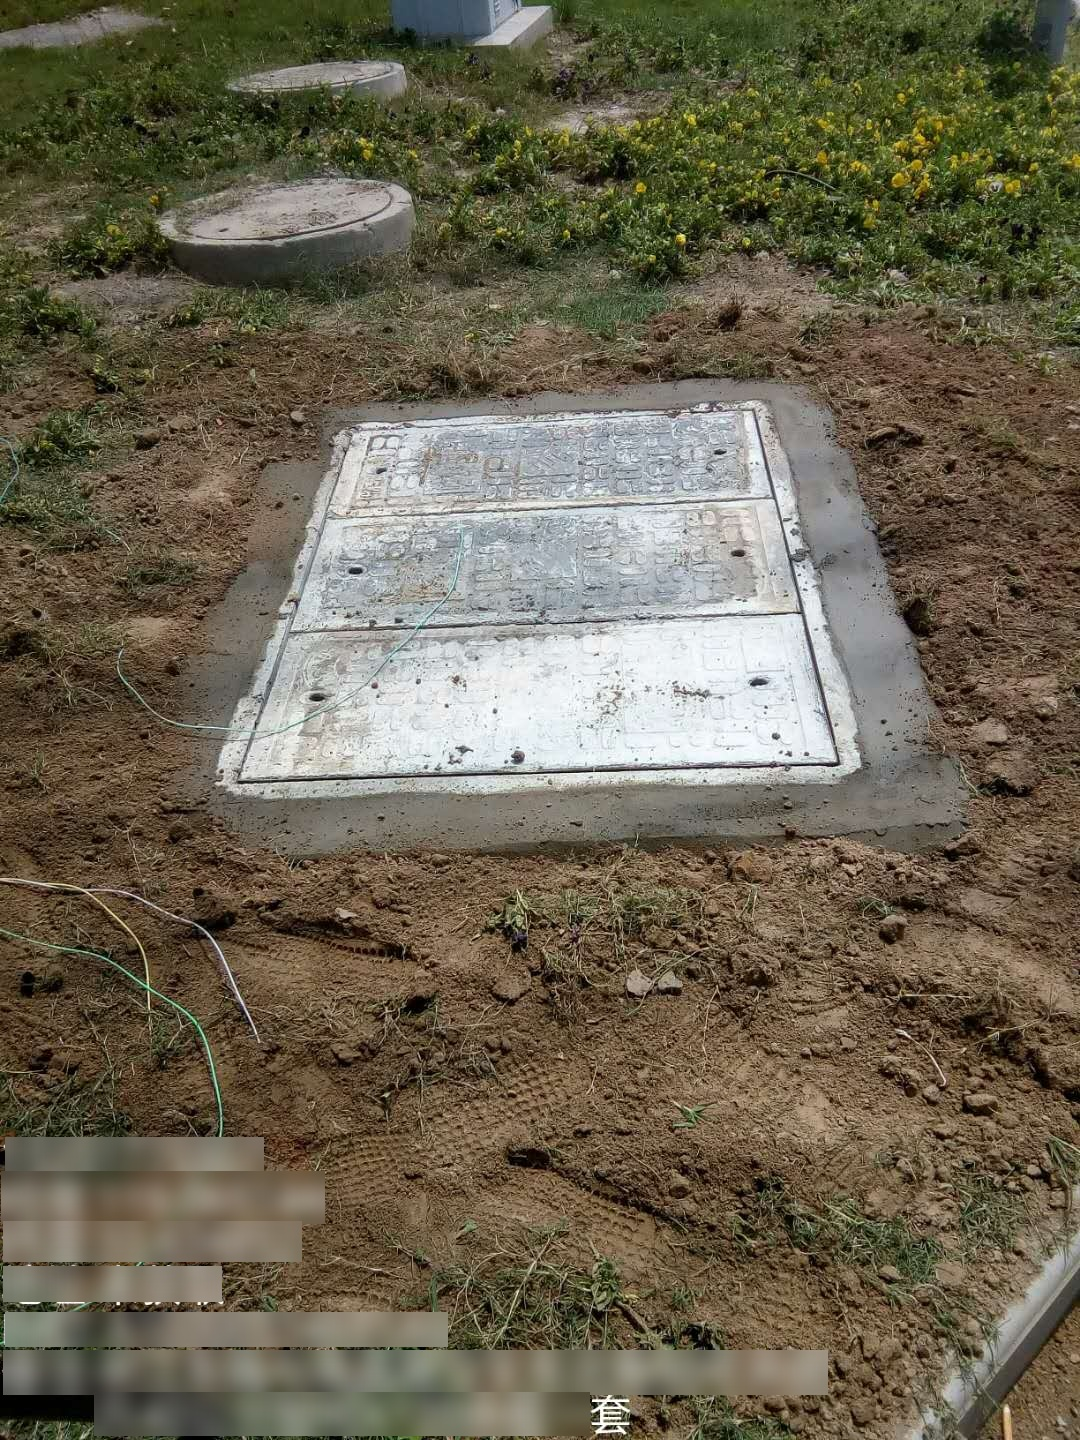well: (216, 403, 862, 797), (152, 173, 410, 255)
